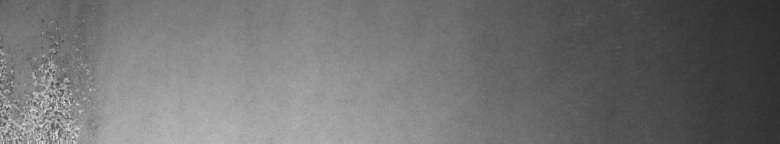hc: (4, 20, 96, 136)
